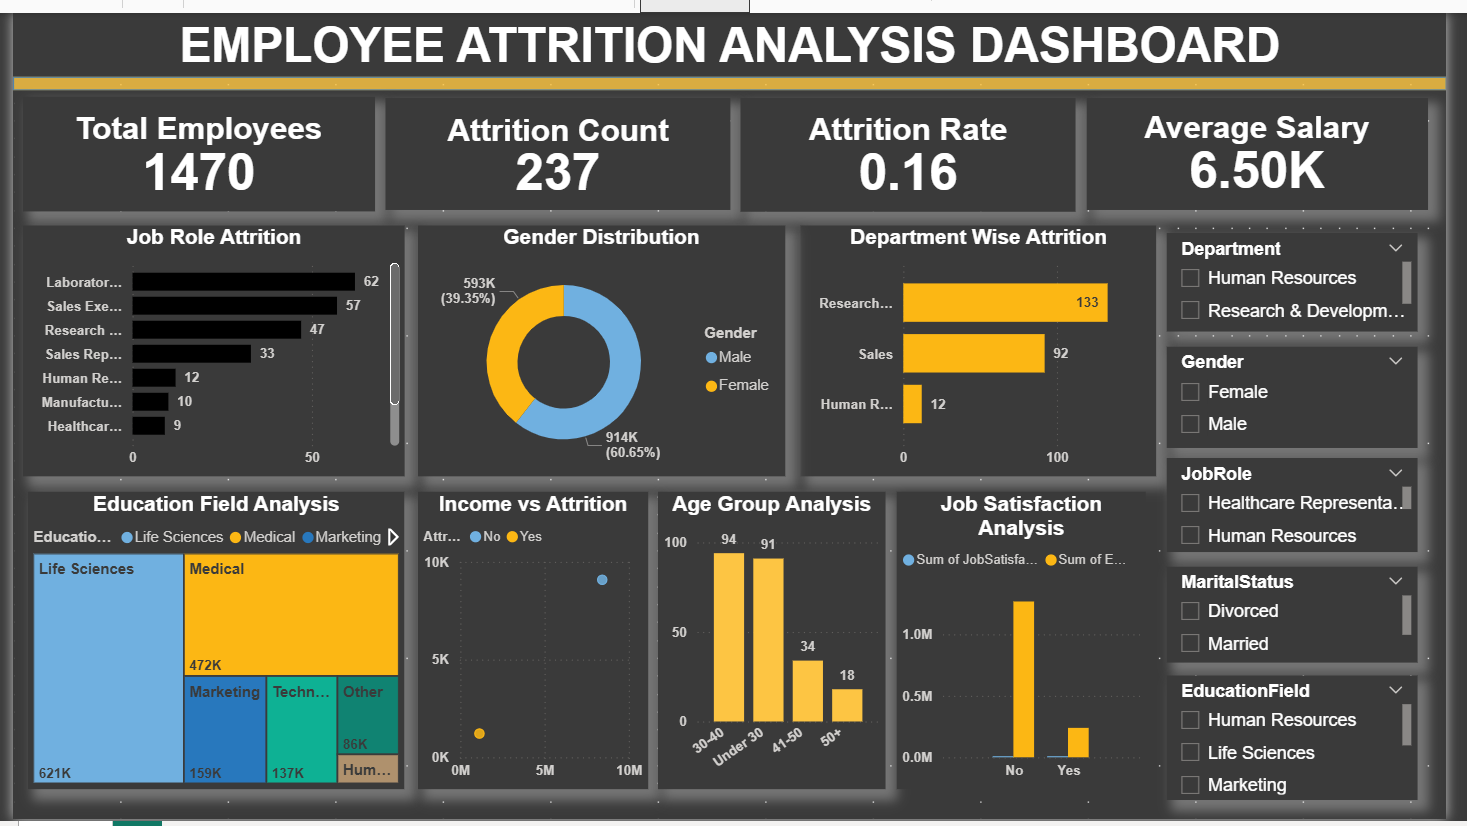

The dashboard page shown, as its layout file describes it:
{"tool":"powerbi","page":{"name":"Page 1","canvas":[1280,720],"ordinal":0},"visuals":[{"type":"card","title":"Total Employees","fields":{"Values":["CountNonNull(WA_Fn-UseC_-HR-Employee-Attrition.EmployeeNumber)"]},"box":[8.6,74.6,314.3,102.7],"z":0},{"type":"card","title":"Attrition Count","fields":{"Values":["WA_Fn-UseC_-HR-Employee-Attrition.Attrition Count"]},"box":[332.6,75.8,308.2,100.3],"z":1000},{"type":"card","title":"Attrition Rate","fields":{"Values":["WA_Fn-UseC_-HR-Employee-Attrition.Attrition Rate"]},"box":[649.3,75.8,299.6,101.5],"z":2000},{"type":"card","title":"Average Salary","fields":{"Values":["WA_Fn-UseC_-HR-Employee-Attrition.Average Salary"]},"box":[958.7,75.8,304.5,100.3],"z":3000},{"type":"clusteredBarChart","title":"Department Wise Attrition","fields":{"Category":["WA_Fn-UseC_-HR-Employee-Attrition.Department"],"Y":["WA_Fn-UseC_-HR-Employee-Attrition.Attrition Count"]},"box":[703.1,189.5,317.9,223.8],"z":4000},{"type":"clusteredBarChart","title":"Job Role Attrition","fields":{"Category":["WA_Fn-UseC_-HR-Employee-Attrition.JobRole"],"Y":["WA_Fn-UseC_-HR-Employee-Attrition.Attrition Count"]},"box":[8.6,189.5,341.2,223.8],"z":5000},{"type":"donutChart","title":"Gender Distribution","fields":{"Category":["WA_Fn-UseC_-HR-Employee-Attrition.Gender"],"Y":["Sum(WA_Fn-UseC_-HR-Employee-Attrition.EmployeeNumber)"]},"box":[362,189.5,327.7,223.8],"z":6000},{"type":"treemap","title":"Education Field Analysis","fields":{"Group":["WA_Fn-UseC_-HR-Employee-Attrition.EducationField"],"Values":["Sum(WA_Fn-UseC_-HR-Employee-Attrition.EmployeeNumber)"]},"box":[13.5,428,336.3,265.4],"z":7000},{"type":"scatterChart","title":"Income vs Attrition","fields":{"X":["Sum(WA_Fn-UseC_-HR-Employee-Attrition.MonthlyIncome)"],"Y":["Sum(WA_Fn-UseC_-HR-Employee-Attrition.YearsAtCompany)"],"Series":["WA_Fn-UseC_-HR-Employee-Attrition.Attrition"]},"box":[362,428,205.4,265.4],"z":8000},{"type":"clusteredColumnChart","title":"Age Group Analysis","fields":{"Category":["WA_Fn-UseC_-HR-Employee-Attrition.Age Group"],"Y":["WA_Fn-UseC_-HR-Employee-Attrition.Attrition Count"]},"box":[576,428,203,265.4],"z":9000},{"type":"clusteredColumnChart","title":"Job Satisfaction Analysis","fields":{"Y":["Sum(WA_Fn-UseC_-HR-Employee-Attrition.JobSatisfaction)","Sum(WA_Fn-UseC_-HR-Employee-Attrition.EmployeeNumber)"],"Category":["WA_Fn-UseC_-HR-Employee-Attrition.Attrition"]},"box":[788.7,428,222.6,265.4],"z":10000},{"type":"slicer","fields":{"Values":["WA_Fn-UseC_-HR-Employee-Attrition.Department"]},"box":[1030.8,196.9,223.8,88],"z":11000},{"type":"slicer","fields":{"Values":["WA_Fn-UseC_-HR-Employee-Attrition.Gender"]},"box":[1030.8,298.4,223.8,90.5],"z":12000},{"type":"slicer","fields":{"Values":["WA_Fn-UseC_-HR-Employee-Attrition.JobRole"]},"box":[1030.8,397.4,223.8,84.4],"z":13000},{"type":"slicer","fields":{"Values":["WA_Fn-UseC_-HR-Employee-Attrition.MaritalStatus"]},"box":[1030.8,494,223.8,85.6],"z":14000},{"type":"slicer","fields":{"Values":["WA_Fn-UseC_-HR-Employee-Attrition.EducationField"]},"box":[1030.8,591.9,223.8,111.3],"z":15000},{"type":"textbox","box":[0,0,1280.3,63.6],"z":16000},{"type":"shape","box":[0,57.5,1280.3,12.2],"z":17000}]}

Visuals, with their boxes in screenshot pixels (x1, y1, x2, y2), scaled from the page's 1280x720 canvas onto the 1467x826 screenshot:
"Total Employees" card: <box>10,86,370,203</box>
"Attrition Count" card: <box>381,87,734,202</box>
"Attrition Rate" card: <box>744,87,1088,203</box>
"Average Salary" card: <box>1099,87,1448,202</box>
"Department Wise Attrition" clusteredBarChart: <box>806,217,1170,474</box>
"Job Role Attrition" clusteredBarChart: <box>10,217,401,474</box>
"Gender Distribution" donutChart: <box>415,217,790,474</box>
"Education Field Analysis" treemap: <box>15,491,401,795</box>
"Income vs Attrition" scatterChart: <box>415,491,650,795</box>
"Age Group Analysis" clusteredColumnChart: <box>660,491,893,795</box>
"Job Satisfaction Analysis" clusteredColumnChart: <box>904,491,1159,795</box>
slicer - WA_Fn-UseC_-HR-Employee-Attrition.Department: <box>1181,226,1438,327</box>
slicer - WA_Fn-UseC_-HR-Employee-Attrition.Gender: <box>1181,342,1438,446</box>
slicer - WA_Fn-UseC_-HR-Employee-Attrition.JobRole: <box>1181,456,1438,553</box>
slicer - WA_Fn-UseC_-HR-Employee-Attrition.MaritalStatus: <box>1181,567,1438,665</box>
slicer - WA_Fn-UseC_-HR-Employee-Attrition.EducationField: <box>1181,679,1438,807</box>
textbox: <box>0,0,1466,73</box>
shape: <box>0,66,1466,80</box>
